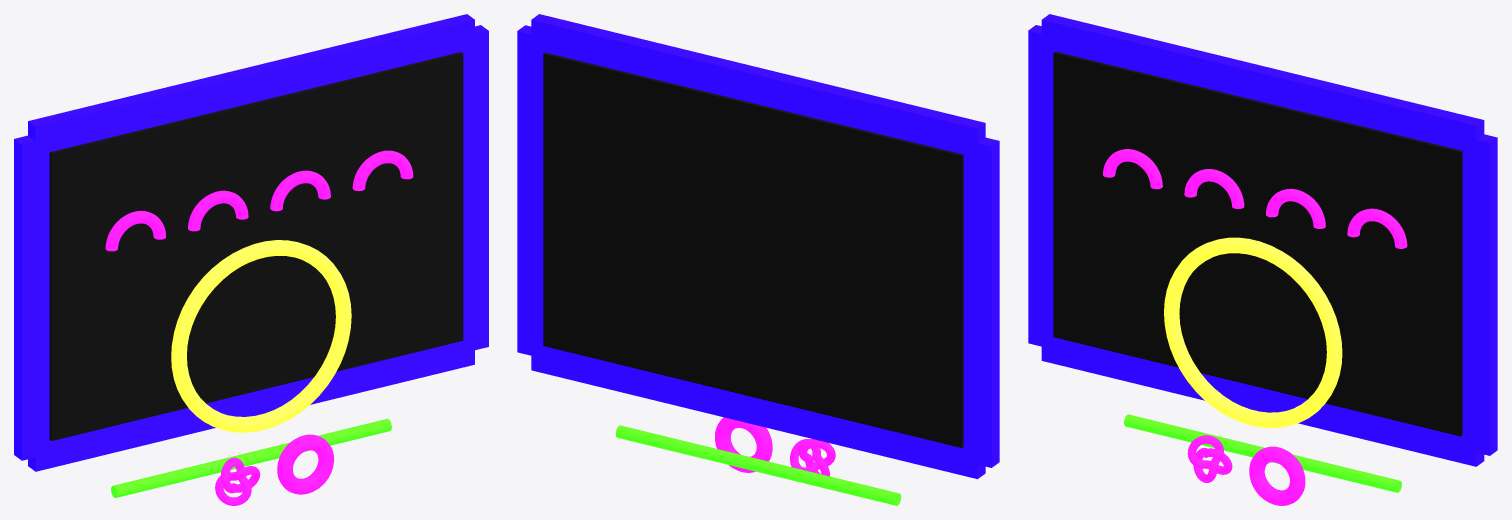
File: ads.glb
3 views of the same model, side by side, from view 1: azimuth 30°, elevation 25°; view 2: azimuth 150°, elevation 25°; view 3: azimuth 330°, elevation 25° (orthographic). The views are drawn at different scales.
Size of the model in its own units: 6.8 by 5.8 by 0.7939.
